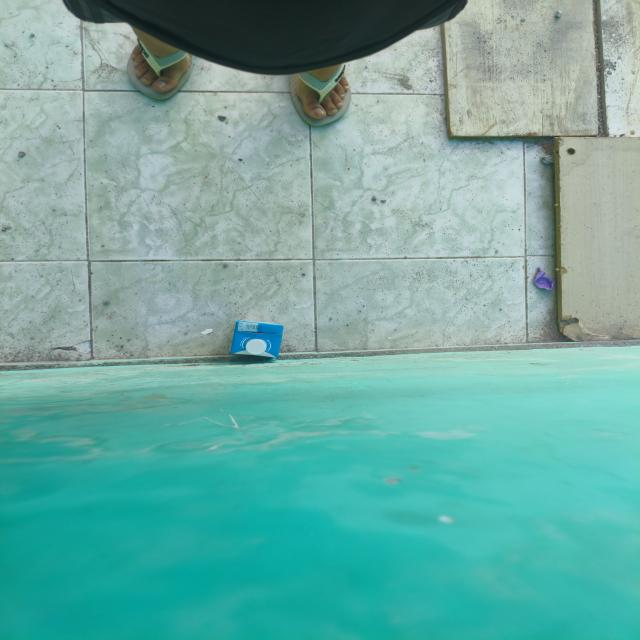Caixa de Leite: (228, 320, 284, 360)
